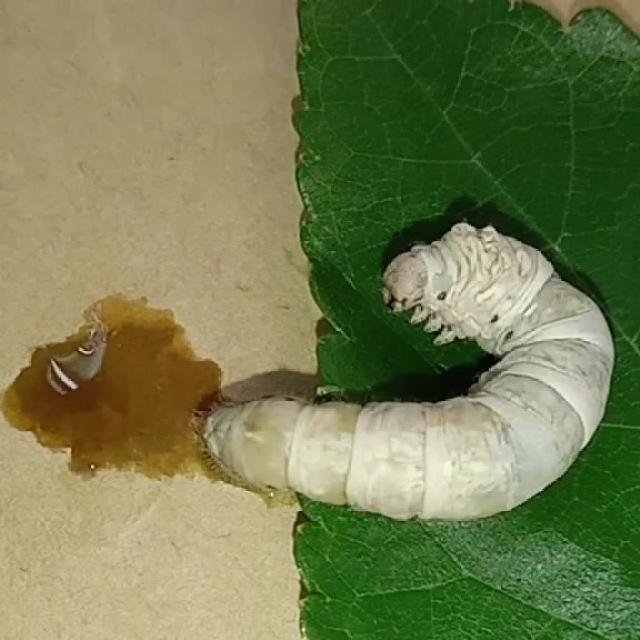Grasserie: (142, 142, 631, 608)
